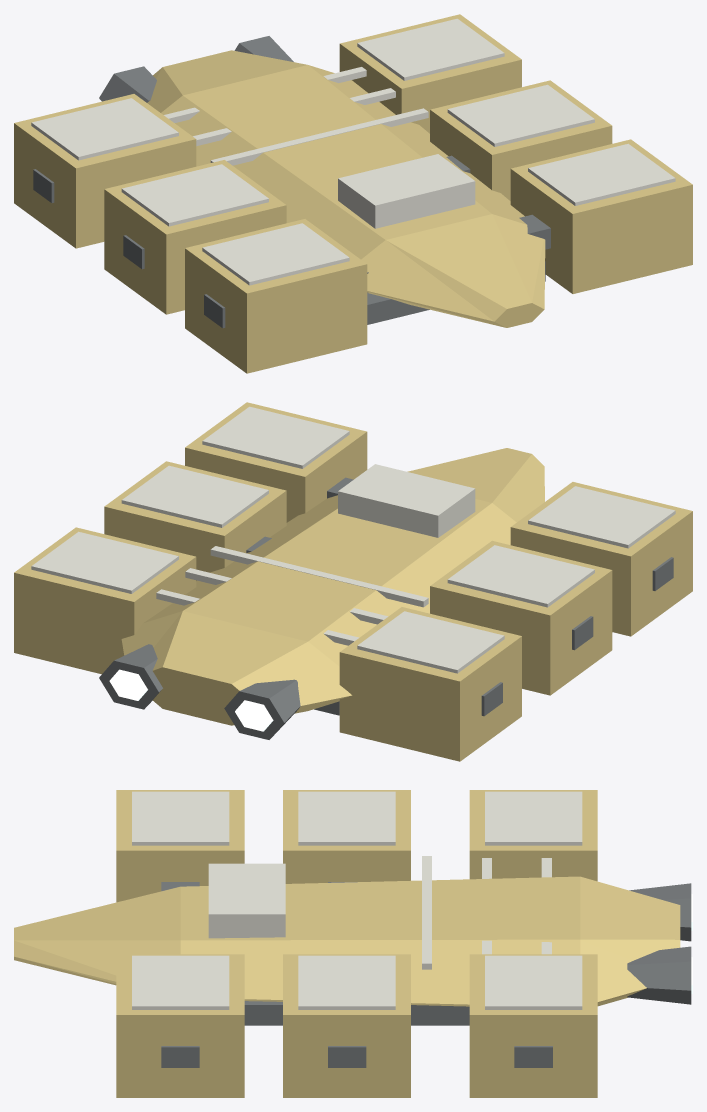
3 renders of one model, top to bottom at view 1: azimuth 30°, elevation 25°; view 2: azimuth 150°, elevation 25°; view 3: azimuth 270°, elevation 25°, orthographic. The views are drawn at different scales.
Size of the model in its own units: 8.57 by 1.69 by 10.81.
